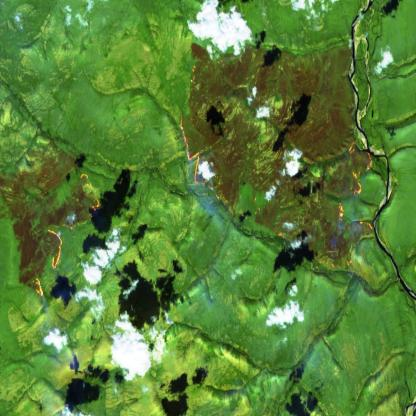fire: (29, 167, 100, 298), (316, 139, 384, 275), (174, 92, 222, 192)
